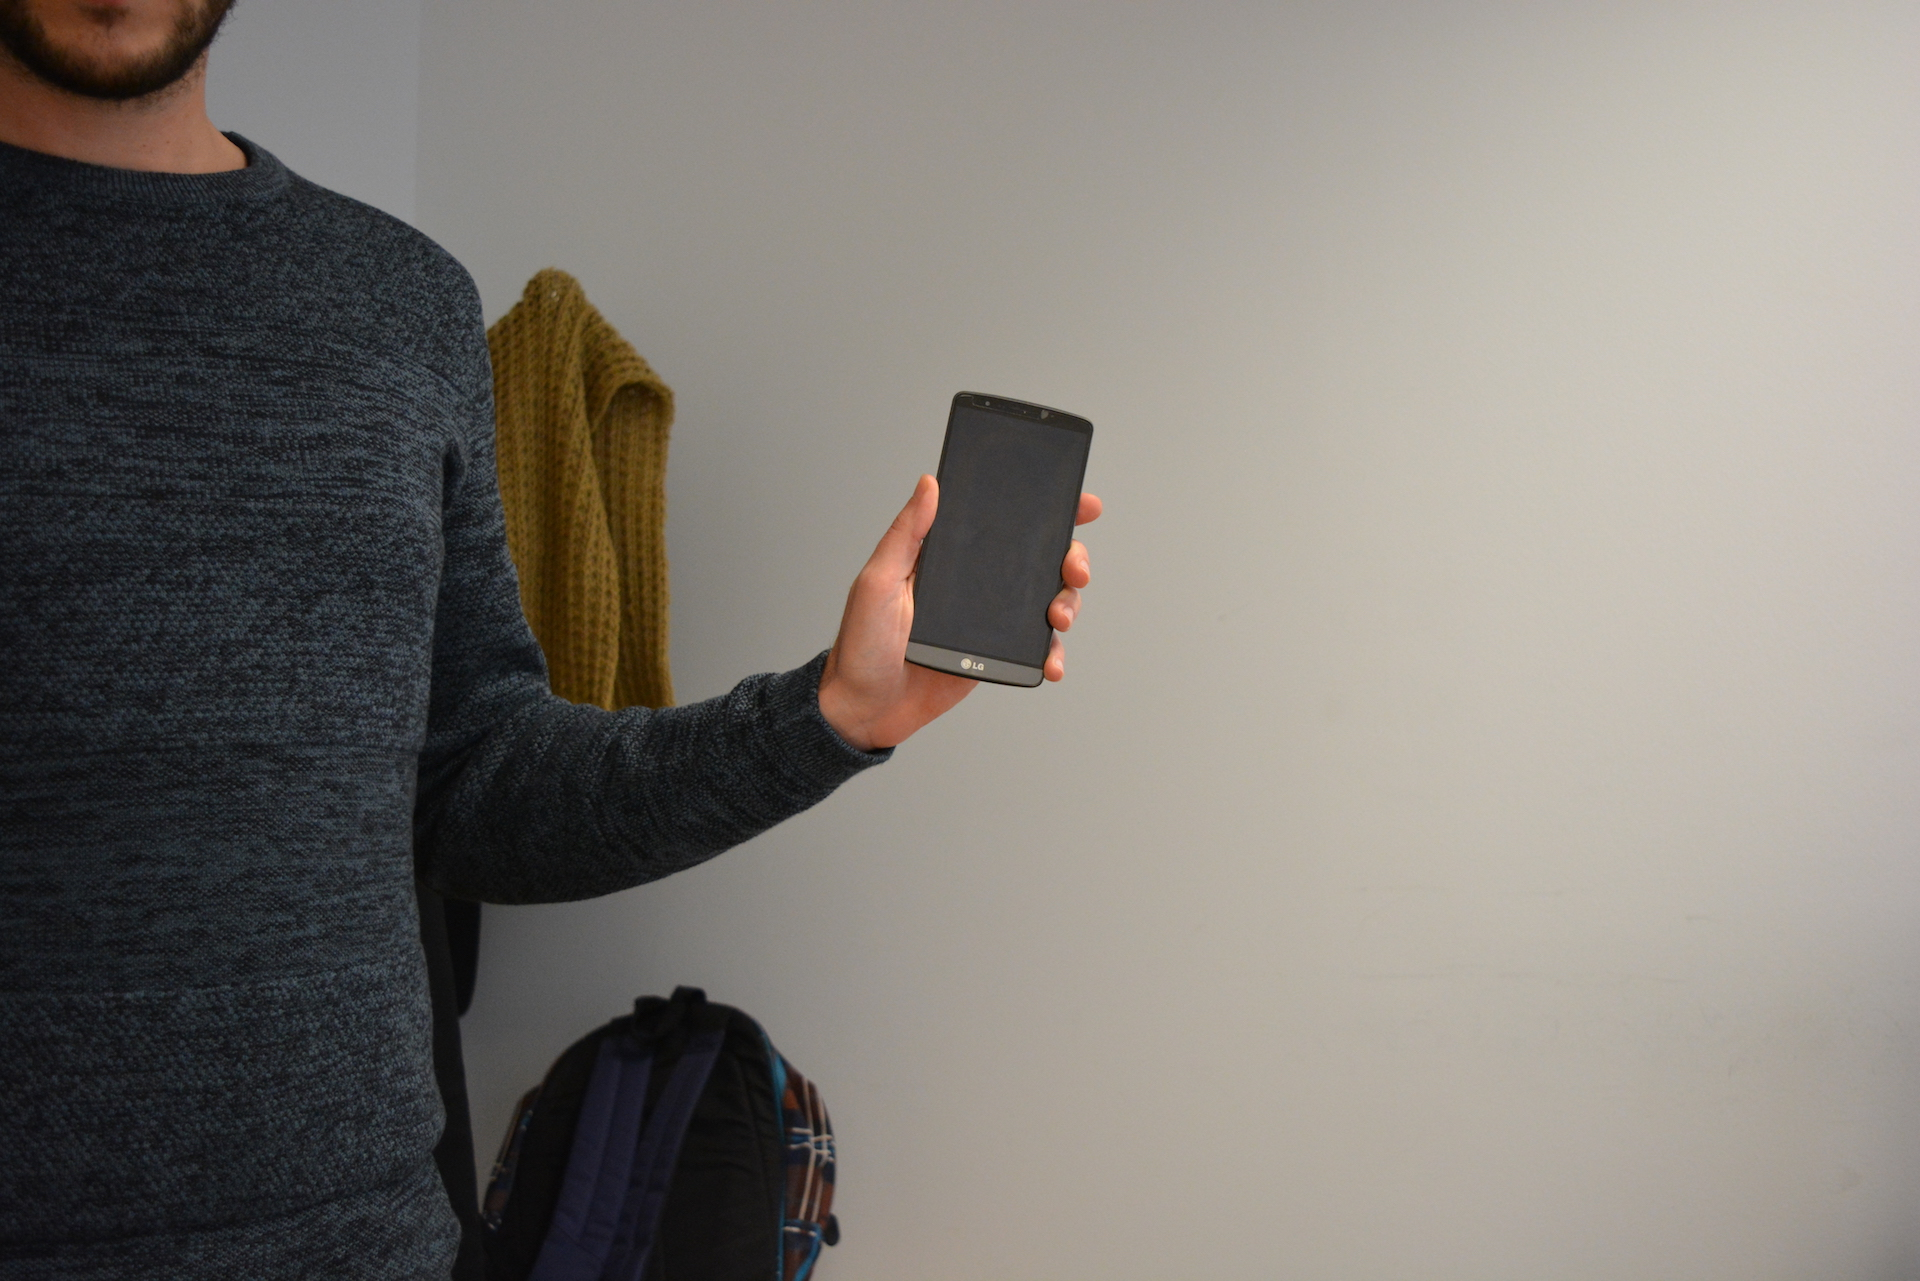smartphone: (902, 389, 1097, 691)
